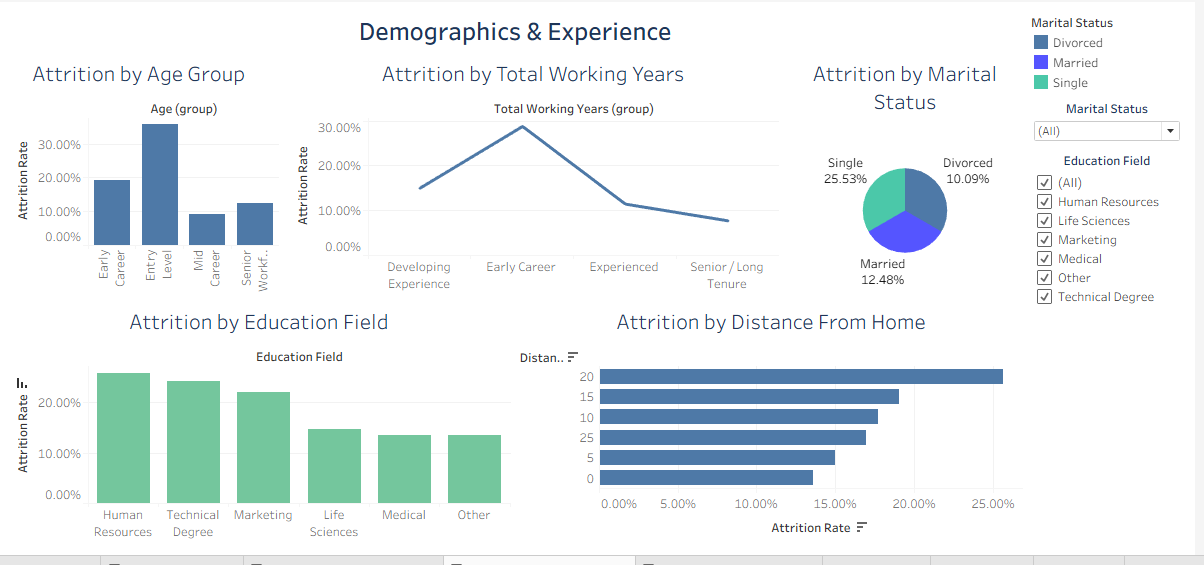

The dashboard page shown, as its layout file describes it:
{"tool":"tableau","page":{"name":"Demographics & Experience","canvas":[1000,1000],"units":"permille","ordinal":1},"visuals":[{"type":"title","box":[6.7,10,853.3,51.2]},{"type":"legend","title":"Attrition by Marital Status","param":"[federated.01jrfty1ftfytq0zqt21401otlh2].[none:MaritalStatus:nk]","box":[860,10,133.3,107.5]},{"type":"worksheet","title":"Attrition by Age Group  ","mark":"Automatic","rows":["Calculation_1067071674775252993"],"box":[6.7,61.2,233.3,464.4]},{"type":"worksheet","title":"Attrition by Total Working Years","mark":"Line","rows":["Calculation_1067071674775252993"],"box":[240,61.2,416.7,464.4]},{"type":"worksheet","title":"Attrition by Marital Status","mark":"Pie","box":[656.7,61.2,203.3,464.4]},{"type":"filter","title":"Attrition by Marital Status","param":"[federated.01jrfty1ftfytq0zqt21401otlh2].[none:MaritalStatus:nk]","box":[860,117.5,133.3,65]},{"type":"filter","title":"Attrition by Education Field","param":"[federated.01jrfty1ftfytq0zqt21401otlh2].[none:EducationField:nk]","box":[860,182.5,133.3,206.2]},{"type":"worksheet","title":"Attrition by Education Field","mark":"Automatic","rows":["Calculation_1067071674775252993"],"cols":["EducationField"],"box":[6.7,525.6,426.7,464.4]},{"type":"worksheet","title":"Attrition by Distance From Home","mark":"Automatic","rows":["Distance From Home (bin)"],"cols":["Calculation_1067071674775252993"],"box":[433.3,525.6,426.7,464.4]}]}

Visuals, with their boxes on the dashboard's canvas, which has no fixed pixel size, in thousandths of its width and height (x1, y1, x2, y2). These are canvas units, not pixel positions in the 1204x565 screenshot, which may show the page scaled, cropped or inside an application window:
title: 7, 10, 860, 61
"Attrition by Marital Status" legend: 860, 10, 993, 118
"Attrition by Age Group  " worksheet: 7, 61, 240, 526
"Attrition by Total Working Years" worksheet (Line marks): 240, 61, 657, 526
"Attrition by Marital Status" worksheet (Pie marks): 657, 61, 860, 526
"Attrition by Marital Status" filter: 860, 118, 993, 182
"Attrition by Education Field" filter: 860, 182, 993, 389
"Attrition by Education Field" worksheet: 7, 526, 433, 990
"Attrition by Distance From Home" worksheet: 433, 526, 860, 990
